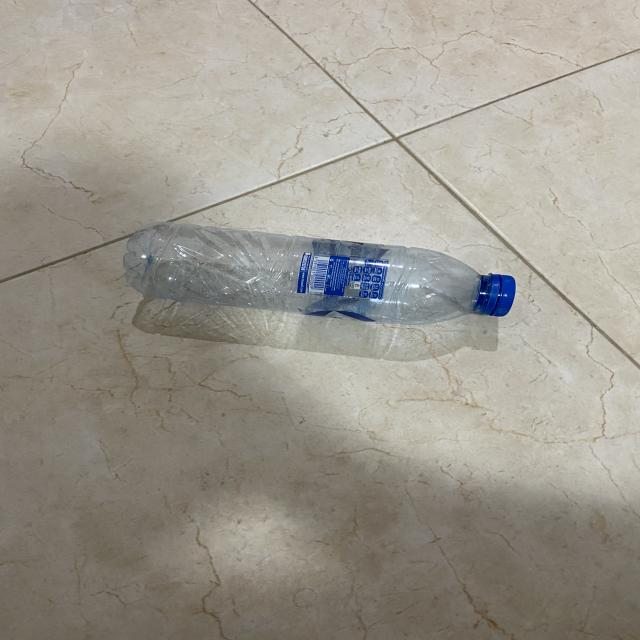bottle: (121, 219, 522, 327)
